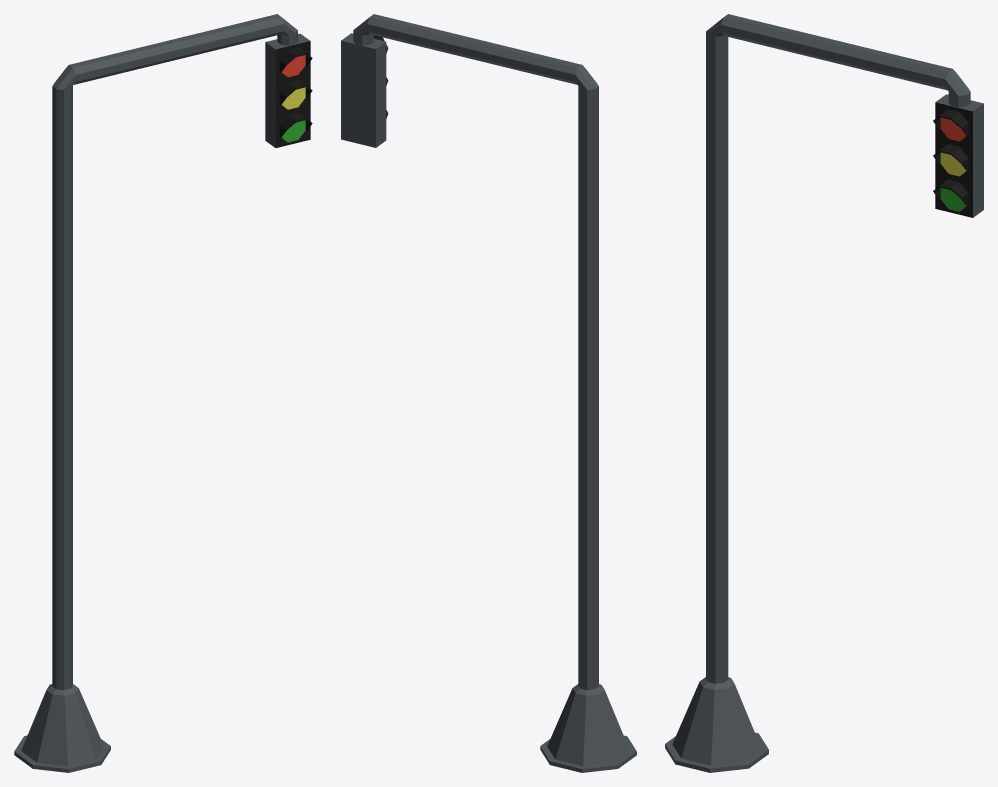
Rendered from TrafficLight.fbx.
3 renders of one model, left to right at view 1: azimuth 30°, elevation 25°; view 2: azimuth 150°, elevation 25°; view 3: azimuth 330°, elevation 25°, orthographic. The views are drawn at different scales.
Visible parts, largest first — view 1: TrafficLight; view 2: TrafficLight; view 3: TrafficLight.
Boxes of the visible parts, box(x1,y1,x2,y2) form: TrafficLight: box(14, 14, 312, 772); TrafficLight: box(341, 14, 636, 772); TrafficLight: box(665, 14, 983, 772).
Bounding box in the file's own units: 258 × 599 × 71.52.
